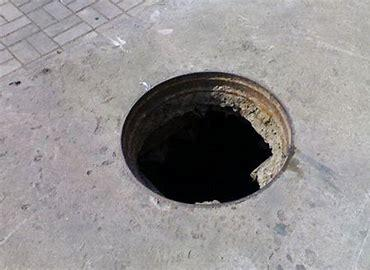wellcover: (107, 69, 303, 210)
